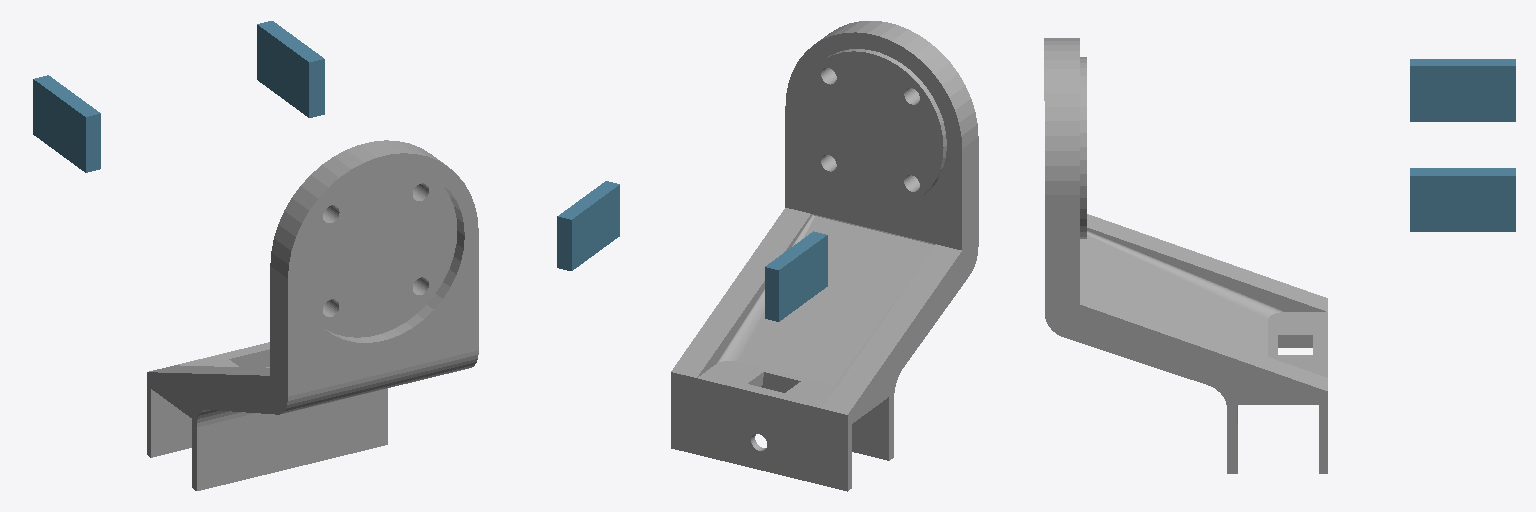
URDF robot description (ur5_robotiq_85):
<?xml version="1.0" ?>
<!-- =================================================================================== -->
<!-- |    This document was autogenerated by xacro from sisbot.xacro                   | -->
<!-- |    EDITING THIS FILE BY HAND IS NOT RECOMMENDED                                 | -->
<!-- =================================================================================== -->
<robot name="ur5_robotiq_85" xmlns:xacro="http://ros.org/wiki/xacro">
  <!--################################################
  ########              arm                    #######
  ####################################################-->

  <link name="base_link">
    <visual>
      <geometry>
        <mesh filename="../meshes/ur5/visual/base.obj"/>
      </geometry>
      <material name="LightGrey">
        <color rgba="0.7 0.7 0.7 1.0"/>
      </material>
    </visual>
    <collision>
      <geometry>
        <mesh filename="../meshes/ur5/collision/base.stl"/>
      </geometry>
    </collision>
    <inertial>
      <mass value="4.0"/>
      <origin rpy="0 0 0" xyz="0.0 0.0 0.0"/>
      <inertia ixx="0.00443333156" ixy="0.0" ixz="0.0" iyy="0.00443333156" iyz="0.0" izz="0.0072"/>
    </inertial>
  </link>

  <joint name="shoulder_pan_joint" type="revolute">
    <parent link="base_link"/>
    <child link="shoulder_link"/>
    <origin rpy="0.0 0.0 0.0" xyz="0.0 0.0 0.089159"/>
    <axis xyz="0 0 1"/>
    <limit effort="150.0" lower="-3.14159265359" upper="3.14159265359" velocity="3.15"/>
    <dynamics damping="0.0" friction="0.0"/>
  </joint>
  <link name="shoulder_link">
    <visual>
      <geometry>
        <mesh filename="../meshes/ur5/visual/shoulder.obj"/>
      </geometry>
      <material name="UR-Blue">
        <color rgba="0.376 0.576 0.674 1.0"/>
      </material>
    </visual>
    <collision>
      <geometry>
        <mesh filename="../meshes/ur5/collision/shoulder.stl"/>
      </geometry>
    </collision>
    <inertial>
      <mass value="3.7"/>
      <origin rpy="0 0 0" xyz="0.0 0.0 0.0"/>
      <inertia ixx="0.010267495893" ixy="0.0" ixz="0.0" iyy="0.010267495893" iyz="0.0" izz="0.00666"/>
    </inertial>
  </link>
  <joint name="shoulder_lift_joint" type="revolute">
    <parent link="shoulder_link"/>
    <child link="upper_arm_link"/>
    <origin rpy="0.0 1.57079632679 0.0" xyz="0.0 0.13585 0.0"/>
    <axis xyz="0 1 0"/>
    <limit effort="150.0" lower="-3.14159265359" upper="3.14159265359" velocity="3.15"/>
    <dynamics damping="0.0" friction="0.0"/>
  </joint>
  <link name="upper_arm_link">
    <visual>
      <geometry>
        <mesh filename="../meshes/ur5/visual/upperarm.obj"/>
      </geometry>
      <material name="LightGrey">
        <color rgba="0.7 0.7 0.7 1.0"/>
      </material>
    </visual>
    <collision>
      <geometry>
        <mesh filename="../meshes/ur5/collision/upperarm.stl"/>
      </geometry>
    </collision>
    <inertial>
      <mass value="8.393"/>
      <origin rpy="0 0 0" xyz="0.0 0.0 0.28"/>
      <inertia ixx="0.22689067591" ixy="0.0" ixz="0.0" iyy="0.22689067591" iyz="0.0" izz="0.0151074"/>
    </inertial>
  </link>
  <joint name="elbow_joint" type="revolute">
    <parent link="upper_arm_link"/>
    <child link="forearm_link"/>
    <origin rpy="0.0 0.0 0.0" xyz="0.0 -0.1197 0.425"/>
    <axis xyz="0 1 0"/>
    <limit effort="150.0" lower="-3.14159265359" upper="3.14159265359" velocity="3.15"/>
    <dynamics damping="0.0" friction="0.0"/>
  </joint>
  <link name="forearm_link">
    <visual>
      <geometry>
        <mesh filename="../meshes/ur5/visual/forearm.obj"/>
      </geometry>
      <material name="LightGrey">
        <color rgba="0.7 0.7 0.7 1.0"/>
      </material>
    </visual>
    <collision>
      <geometry>
        <mesh filename="../meshes/ur5/collision/forearm.stl"/>
      </geometry>
    </collision>
    <inertial>
      <mass value="2.275"/>
      <origin rpy="0 0 0" xyz="0.0 0.0 0.25"/>
      <inertia ixx="0.049443313556" ixy="0.0" ixz="0.0" iyy="0.049443313556" iyz="0.0" izz="0.004095"/>
    </inertial>
  </link>
  <joint name="wrist_1_joint" type="revolute">
    <parent link="forearm_link"/>
    <child link="wrist_1_link"/>
    <origin rpy="0.0 1.57079632679 0.0" xyz="0.0 0.0 0.39225"/>
    <axis xyz="0 1 0"/>
    <limit effort="28.0" lower="-3.14159265359" upper="3.14159265359" velocity="3.2"/>
    <dynamics damping="0.0" friction="0.0"/>
  </joint>
  <link name="wrist_1_link">
    <visual>
      <geometry>
        <mesh filename="../meshes/ur5/visual/wrist1.obj"/>
      </geometry>
      <material name="UR-Blue">
        <color rgba="0.376 0.576 0.674 1.0"/>
      </material>
    </visual>
    <collision>
      <geometry>
        <mesh filename="../meshes/ur5/collision/wrist1.stl"/>
      </geometry>
    </collision>
    <inertial>
      <mass value="1.219"/>
      <origin rpy="0 0 0" xyz="0.0 0.0 0.0"/>
      <inertia ixx="0.111172755531" ixy="0.0" ixz="0.0" iyy="0.111172755531" iyz="0.0" izz="0.21942"/>
    </inertial>
  </link>
  <joint name="wrist_2_joint" type="revolute">
    <parent link="wrist_1_link"/>
    <child link="wrist_2_link"/>
    <origin rpy="0.0 0.0 0.0" xyz="0.0 0.093 0.0"/>
    <axis xyz="0 0 1"/>
    <limit effort="28.0" lower="-3.14159265359" upper="3.14159265359" velocity="3.2"/>
    <dynamics damping="0.0" friction="0.0"/>
  </joint>
  <link name="wrist_2_link">
    <visual>
      <geometry>
        <mesh filename="../meshes/ur5/visual/wrist2.obj"/>
      </geometry>
      <material name="DarkGray">
        <color rgba="0.5 0.5 0.5 1.0"/>
      </material>
    </visual>
    <collision>
      <geometry>
        <mesh filename="../meshes/ur5/collision/wrist2.stl"/>
      </geometry>
    </collision>
    <inertial>
      <mass value="1.219"/>
      <origin rpy="0 0 0" xyz="0.0 0.0 0.0"/>
      <inertia ixx="0.111172755531" ixy="0.0" ixz="0.0" iyy="0.111172755531" iyz="0.0" izz="0.21942"/>
    </inertial>
  </link>
  <joint name="wrist_3_joint" type="revolute">
    <parent link="wrist_2_link"/>
    <child link="wrist_3_link"/>
    <origin rpy="0.0 0.0 0.0" xyz="0.0 0.0 0.09465"/>
    <axis xyz="0 1 0"/>
    <limit effort="28.0" lower="-3.14159265359" upper="3.14159265359" velocity="3.2"/>
    <dynamics damping="0.0" friction="0.0"/>
  </joint>
  <link name="wrist_3_link">
    <visual>
      <geometry>
        <mesh filename="../meshes/ur5/visual/wrist3.obj"/>
      </geometry>
      <material name="LightGrey">
        <color rgba="0.7 0.7 0.7 1.0"/>
      </material>
    </visual>
    <collision>
      <geometry>
        <mesh filename="../meshes/ur5/collision/wrist3.stl"/>
      </geometry>
    </collision>
    <inertial>
      <mass value="0.1879"/>
      <origin rpy="0 0 0" xyz="0.0 0.0 0.0"/>
      <inertia ixx="0.0171364731454" ixy="0.0" ixz="0.0" iyy="0.0171364731454" iyz="0.0" izz="0.033822"/>
    </inertial>
  </link>
  <joint name="ee_fixed_joint" type="fixed">
    <parent link="wrist_3_link"/>
    <child link="ee_link"/>
    <origin rpy="0.0 0.0 1.57079632679" xyz="0.0 0.0823 0.0"/>
  </joint>
  <link name="ee_link">
    <collision>
      <geometry>
        <box size="0.01 0.01 0.01"/>
      </geometry>
      <origin rpy="0 0 0" xyz="-0.01 0 0"/>
    </collision>
  </link>

  <!--################################################
  ########             camera mount              #####
  ####################################################-->

  <joint name='camera_joint' type='fixed'>
    <parent link="wrist_3_link"/>
    <child link="camera_mount"/>
    <origin rpy="1.57 0.0 0.0" xyz="-0.0375 0.1763 -0.0375"/>
    <!-- <origin rpy="1.57 0.0 0.0" xyz="-0.0475 0.1763 -0.0475"/> -->
    <axis xyz="1 0 0"/>
    <!-- <limit effort="10.0" lower="-0.00" upper="0.04" velocity="100"/> -->
    <!-- <dynamics damping="0.0" friction="0.0"/> -->
  </joint>
  <link name="camera_mount">
    <visual>
      <!-- <origin rpy="0 0 0" xyz="-0.01 -0.005 -0.01"/> -->
      <origin rpy="0 0 0" xyz="0.0 0.0 0.0"/>
      <geometry>
        <mesh filename="../meshes/ur5/visual/LERF_camera_mount.obj" scale="0.00105 0.00105 0.00105"/>
      </geometry>
            <material name="LightGrey">
        <color rgba="0.7 0.7 0.7 1.0"/>
      </material>
    </visual>
    <collision>
      <!-- <origin rpy="0 0 0" xyz="-0.01 -0.005 -0.01"/> -->
      <origin rpy="0 0 0" xyz="0.0 0.0 0.0"/>
      <geometry>
          <mesh filename="../meshes/ur5/collision/LERF_camera_mount.stl" scale="0.00105 0.00105 0.00105"/>
      </geometry>
    </collision>
  </link>

  <!--################################################
  ########              gripper                  #####
  ####################################################-->

  <link name="robotiq_arg2f_base_link">
    <inertial>
      <origin rpy="0 0 0" xyz="8.625E-08 -4.6583E-06 0.03145"/>
      <mass value="0.22652"/>
      <inertia ixx="0.00020005" ixy="-4.2442E-10" ixz="-2.9069E-10" iyy="0.00017832" iyz="-3.4402E-08" izz="0.00013478"/>
    </inertial>
    <visual>
      <origin rpy="0 0 0" xyz="0 0 0"/>
      <geometry>
        <mesh filename="../meshes/robotiq_85/visual/robotiq_arg2f_85_base_link.dae" scale="0.001 0.001 0.001"/>
      </geometry>
      <material name="LightGrey">
        <color rgba="0.7 0.7 0.7 1.0"/>
      </material>
    </visual>
    <collision>
      <origin rpy="0 0 0" xyz="0 0 0"/>
      <geometry>
        <mesh filename="../meshes/robotiq_85/collision/robotiq_arg2f_base_link.stl"/>
      </geometry>
    </collision>
  </link>
  <joint name="finger_joint" type="revolute">
    <origin rpy="0 0 3.14159265359" xyz="0 -0.0306011 0.054904"/>
    <parent link="robotiq_arg2f_base_link"/>
    <child link="left_outer_knuckle"/>
    <axis xyz="1 0 0"/>
    <limit effort="1000" lower="0" upper="0.8" velocity="2.0"/>
  </joint>
  <link name="left_outer_knuckle">
    <inertial>
        <origin xyz="-0.000200000000003065 0.0199435877845359 0.0292245259211331" rpy="0 0 0" />
        <mass value="0.00853198276973456" />
        <inertia ixx="2.89328108496468E-06" ixy="-1.57935047237397E-19" ixz="-1.93980378593255E-19" iyy="1.86719750325683E-06" iyz="-1.21858577871576E-06" izz="1.21905238907251E-06" />
        </inertial>
    <visual>
      <origin rpy="0 0 0" xyz="0 0 0"/>
      <geometry>
        <mesh filename="../meshes/robotiq_85/visual/robotiq_arg2f_85_outer_knuckle.dae" scale="0.001 0.001 0.001"/>
      </geometry>
      <material name="">
        <color rgba="1 1 0 1"/>
      </material>
    </visual>
    <collision>
      <origin rpy="0 0 0" xyz="0 0 0"/>
      <geometry>
        <mesh filename="../meshes/robotiq_85/collision/robotiq_arg2f_85_outer_knuckle.dae" scale="0.001 0.001 0.001"/>
      </geometry>
    </collision>
  </link>
  <joint name="left_outer_finger_joint" type="fixed">
    <origin rpy="0 0 0" xyz="0 0.0315 -0.0041"/>
    <parent link="left_outer_knuckle"/>
    <child link="left_outer_finger"/>
    <axis xyz="1 0 0"/>
  </joint>
  <link name="left_outer_finger">
    <inertial>
        <origin xyz="0.00030115855001899 0.0373907951953854 -0.0208027427000385" rpy="0 0 0" />
        <mass value="0.022614240507152" />
        <inertia ixx="1.52518312458174E-05" ixy="9.76583423954399E-10" ixz="-5.43838577022588E-10" iyy="6.17694243867776E-06" iyz="6.78636130740228E-06" izz="1.16494917907219E-05" />
        </inertial>
    <visual>
      <origin rpy="0 0 0" xyz="0 0 0"/>
      <geometry>
        <mesh filename="../meshes/robotiq_85/visual/robotiq_arg2f_85_outer_finger.dae" scale="0.001 0.001 0.001"/>
      </geometry>
      <material name="LightGrey">
        <color rgba="0 1 1 1.0"/>
      </material>
    </visual>
    <collision>
      <origin rpy="0 0 0" xyz="0 0 0"/>
      <geometry>
        <mesh filename="../meshes/robotiq_85/collision/robotiq_arg2f_85_outer_finger.dae" scale="0.001 0.001 0.001"/>
      </geometry>
    </collision>
  </link>
  <joint name="left_inner_finger_joint" type="revolute">
    <origin rpy="0 0 0" xyz="0 0.0061 0.0471"/>
    <parent link="left_outer_finger"/>
    <child link="left_inner_finger"/>
    <axis xyz="1 0 0"/>
    <limit effort="1000" lower="-0.8757" upper="0" velocity="2.0"/>
    <mimic joint="finger_joint" multiplier="-1" offset="0"/>
  </joint>
  <link name="left_inner_finger">
    <inertial>
        <origin xyz="0.000299999999999317 0.0160078233491243 -0.0136945669206257" rpy="0 0 0" />
        <mass value="0.0104003125914103" />
        <inertia ixx="2.71909453810972E-06" ixy="1.35402465472579E-21" ixz="-7.1817349065269E-22" iyy="7.69100314106116E-07" iyz="6.74715432769696E-07" izz="2.30315190420171E-06" />
        </inertial>
    <visual>
      <origin rpy="0 0 0" xyz="0 0 0"/>
      <geometry>
        <mesh filename="../meshes/robotiq_85/visual/robotiq_arg2f_85_inner_finger.dae" scale="0.001 0.001 0.001"/>
      </geometry>
      <material name="LightGrey">
        <color rgba="1 0 1 1.0"/>
      </material>
    </visual>
    <collision>
      <origin rpy="0 0 0" xyz="0 0 0"/>
      <geometry>
        <mesh filename="../meshes/robotiq_85/collision/robotiq_arg2f_85_inner_finger.dae" scale="0.001 0.001 0.001"/>
      </geometry>
    </collision>
  </link>
  <joint name="left_inner_finger_pad_joint" type="fixed">
    <origin rpy="0 0 0" xyz="0 -0.0220203446692936 0.03242"/>
    <parent link="left_inner_finger"/>
    <child link="left_inner_finger_pad"/>
    <axis xyz="0 0 1"/>
  </joint>
  <link name="left_inner_finger_pad">
    <inertial>
      <mass value="1."/>
      <inertia ixx="1E-10" ixy="1E-10" ixz="1E-10" iyy="1E-10" iyz="1E-10" izz="1E-10"/>
    </inertial>
    <visual>
      <origin rpy="0 0 0" xyz="0 0 0"/>
      <geometry>
        <box size="0.022 0.00635 0.0375"/>
      </geometry>
      <material name="UR-Blue">
        <color rgba="0.376 0.576 0.674 1.0"/>
      </material>
    </visual>
    <collision>
      <origin rpy="0 0 0" xyz="0 0 0"/>
      <geometry>
        <box size="0.022 0.00635 0.0375"/>
      </geometry>
      <material name="">
        <color rgba="0.9 0.0 0.0 1"/>
      </material>
    </collision>
  </link>
  <joint name="left_inner_knuckle_joint" type="revolute">
    <!-- <origin xyz="0 ${reflect * -0.0127} 0.06142" rpy="${pi / 2 + .725} 0 ${(reflect - 1) * pi / 2}" /> -->
    <origin rpy="0 0 3.14159265359" xyz="0 -0.0127 0.06142"/>
    <parent link="robotiq_arg2f_base_link"/>
    <child link="left_inner_knuckle"/>
    <axis xyz="1 0 0"/>
    <limit effort="1000" lower="0" upper="0.8757" velocity="2.0"/>
    <mimic joint="finger_joint" multiplier="1" offset="0"/>
  </joint>
  <link name="left_inner_knuckle">
    <inertial>
        <origin xyz="0.000123011831763771 0.0507850843201817 0.00103968640075166" rpy="0 0 0" />
       <mass value="0.0271177346495152" />
        <inertia ixx="2.61910379223783E-05" ixy="-2.43616858946494E-07" ixz="-6.37789906117123E-09" iyy="2.8270243746167E-06" iyz="-5.37200748039765E-07" izz="2.83695868220296E-05" />
        </inertial>
    <visual>
      <origin rpy="0 0 0" xyz="0 0 0"/>
      <geometry>
        <mesh filename="../meshes/robotiq_85/visual/robotiq_arg2f_85_inner_knuckle.dae" scale="0.001 0.001 0.001"/>
      </geometry>
      <material name="LightGrey">
        <color rgba="0 0 1 1.0"/>
      </material>
    </visual>
    <collision>
      <origin rpy="0 0 0" xyz="0 0 0"/>
      <geometry>
        <mesh filename="../meshes/robotiq_85/collision/robotiq_arg2f_85_inner_knuckle.dae" scale="0.001 0.001 0.001"/>
      </geometry>
    </collision>
  </link>
  <joint name="right_outer_knuckle_joint" type="revolute">
    <origin rpy="0 0 0" xyz="0 0.0306011 0.054904"/>
    <parent link="robotiq_arg2f_base_link"/>
    <child link="right_outer_knuckle"/>
    <axis xyz="1 0 0"/>
    <limit effort="1000" lower="0" upper="0.81" velocity="2.0"/>
    <mimic joint="finger_joint" multiplier="1" offset="0"/>
  </joint>
  <link name="right_outer_knuckle">
    <inertial>
        <origin xyz="-0.000200000000003065 0.0199435877845359 0.0292245259211331" rpy="0 0 0" />
        <mass value="0.00853198276973456" />
        <inertia ixx="2.89328108496468E-06" ixy="-1.57935047237397E-19" ixz="-1.93980378593255E-19" iyy="1.86719750325683E-06" iyz="-1.21858577871576E-06" izz="1.21905238907251E-06" />
        </inertial>
    <visual>
      <origin rpy="0 0 0" xyz="0 0 0"/>
      <geometry>
        <mesh filename="../meshes/robotiq_85/visual/robotiq_arg2f_85_outer_knuckle.dae" scale="0.001 0.001 0.001"/>
      </geometry>
      <material name="">
        <color rgba="0.792156862745098 0.819607843137255 0.933333333333333 1"/>
      </material>
    </visual>
    <collision>
      <origin rpy="0 0 0" xyz="0 0 0"/>
      <geometry>
        <mesh filename="../meshes/robotiq_85/collision/robotiq_arg2f_85_outer_knuckle.dae" scale="0.001 0.001 0.001"/>
      </geometry>
    </collision>
  </link>
  <joint name="right_outer_finger_joint" type="fixed">
    <origin rpy="0 0 0" xyz="0 0.0315 -0.0041"/>
    <parent link="right_outer_knuckle"/>
    <child link="right_outer_finger"/>
    <axis xyz="1 0 0"/>
  </joint>
  <link name="right_outer_finger">
    <inertial>
        <origin xyz="0.00030115855001899 0.0373907951953854 -0.0208027427000385" rpy="0 0 0" />
        <mass value="0.022614240507152" />
        <inertia ixx="1.52518312458174E-05" ixy="9.76583423954399E-10" ixz="-5.43838577022588E-10" iyy="6.17694243867776E-06" iyz="6.78636130740228E-06" izz="1.16494917907219E-05" />
        </inertial>
    <visual>
      <origin rpy="0 0 0" xyz="0 0 0"/>
      <geometry>
        <mesh filename="../meshes/robotiq_85/visual/robotiq_arg2f_85_outer_finger.dae" scale="0.001 0.001 0.001"/>
      </geometry>
      <material name="LightGrey">
        <color rgba="0.7 0.7 0.7 1.0"/>
      </material>
    </visual>
    <collision>
      <origin rpy="0 0 0" xyz="0 0 0"/>
      <geometry>
        <mesh filename="../meshes/robotiq_85/collision/robotiq_arg2f_85_outer_finger.dae" scale="0.001 0.001 0.001"/>
      </geometry>
    </collision>
  </link>
  <joint name="right_inner_finger_joint" type="revolute">
    <origin rpy="0 0 0" xyz="0 0.0061 0.0471"/>
    <parent link="right_outer_finger"/>
    <child link="right_inner_finger"/>
    <axis xyz="1 0 0"/>
    <limit effort="1000" lower="-0.8757" upper="0" velocity="2.0"/>
    <mimic joint="finger_joint" multiplier="-1" offset="0"/>
  </joint>
  <link name="right_inner_finger">
    <inertial>
        <origin xyz="0.000299999999999317 0.0160078233491243 -0.0136945669206257" rpy="0 0 0" />
        <mass value="0.0104003125914103" />
        <inertia ixx="2.71909453810972E-06" ixy="1.35402465472579E-21" ixz="-7.1817349065269E-22" iyy="7.69100314106116E-07" iyz="6.74715432769696E-07" izz="2.30315190420171E-06" />
        </inertial>
    <visual>
      <origin rpy="0 0 0" xyz="0 0 0"/>
      <geometry>
        <mesh filename="../meshes/robotiq_85/visual/robotiq_arg2f_85_inner_finger.dae" scale="0.001 0.001 0.001"/>
      </geometry>
      <material name="">
        <color rgba="0.1 0.1 0.1 1"/>
      </material>
    </visual>
    <collision>
      <origin rpy="0 0 0" xyz="0 0 0"/>
      <geometry>
        <mesh filename="../meshes/robotiq_85/collision/robotiq_arg2f_85_inner_finger.dae" scale="0.001 0.001 0.001"/>
      </geometry>
    </collision>
  </link>
  <joint name="right_inner_finger_pad_joint" type="fixed">
    <origin rpy="0 0 0" xyz="0 -0.0220203446692936 0.03242"/>
    <parent link="right_inner_finger"/>
    <child link="right_inner_finger_pad"/>
    <axis xyz="0 0 1"/>
  </joint>
  <link name="right_inner_finger_pad">
    <inertial>
      <mass value="1"/>
      <inertia ixx="1E-10" ixy="1E-10" ixz="1E-10" iyy="1E-10" iyz="1E-10" izz="1E-10"/>
    </inertial>
    <visual>
      <origin rpy="0 0 0" xyz="0 0 0"/>
      <geometry>
        <box size="0.022 0.00635 0.0375"/>
      </geometry>
      <material name="UR-Blue">
        <color rgba="0.376 0.576 0.674 1.0"/>
      </material>
    </visual>
    <collision>
      <origin rpy="0 0 0" xyz="0 0 0"/>
      <geometry>
        <box size="0.022 0.00635 0.0375"/>
      </geometry>
      <material name="LightGrey">
        <color rgba="0.7 0.7 0.7 1.0"/>
      </material>
    </collision>
  </link>
  <joint name="right_inner_knuckle_joint" type="revolute">
    <!-- <origin xyz="0 ${reflect * -0.0127} 0.06142" rpy="${pi / 2 + .725} 0 ${(reflect - 1) * pi / 2}" /> -->
    <origin rpy="0 0 0.0" xyz="0 0.0127 0.06142"/>
    <parent link="robotiq_arg2f_base_link"/>
    <child link="right_inner_knuckle"/>
    <axis xyz="1 0 0"/>
    <limit effort="1000" lower="0" upper="0.8757" velocity="2.0"/>
    <mimic joint="finger_joint" multiplier="1" offset="0"/>
  </joint>
  <link name="right_inner_knuckle">
    <inertial>
        <origin xyz="0.000123011831763771 0.0507850843201817 0.00103968640075166" rpy="0 0 0" />
       <mass value="0.0271177346495152" />
        <inertia ixx="2.61910379223783E-05" ixy="-2.43616858946494E-07" ixz="-6.37789906117123E-09" iyy="2.8270243746167E-06" iyz="-5.37200748039765E-07" izz="2.83695868220296E-05" />
        </inertial>
    <visual>
      <origin rpy="0 0 0" xyz="0 0 0"/>
      <geometry>
        <mesh filename="../meshes/robotiq_85/visual/robotiq_arg2f_85_inner_knuckle.dae" scale="0.001 0.001 0.001"/>
      </geometry>
      <material name="LightGrey">
        <color rgba="0.7 0.7 0.7 1.0"/>
      </material>
    </visual>
    <collision>
      <origin rpy="0 0 0" xyz="0 0 0"/>
      <geometry>
        <mesh filename="../meshes/robotiq_85/collision/robotiq_arg2f_85_inner_knuckle.dae" scale="0.001 0.001 0.001"/>
      </geometry>
    </collision>
  </link>

<!--################################################
  ########          connect model                #####
  ####################################################-->

  <link name="world"/>
  <!-- connect gripper to arm -->
  <joint name="robotiq_85_base_joint" type="fixed">
    <parent link="ee_link"/>
    <child link="robotiq_arg2f_base_link"/>
    <origin rpy="0 1.57079632679 0" xyz="0.012 0 0"/>
  </joint>

<!--  <joint name="arm_gripper_joint" type="fixed">-->
<!--    <parent link="ee_link"/>-->
<!--    <child link="robotiq_140_robotiq_arg2f_base_link"/>-->
<!--    <origin rpy="-1.57 1.57 -1.57" xyz="0.0 0.0 0.0"/>-->
<!--  </joint>-->

  <!-- connect arm to world -->
  <joint name="world_arm_joint" type="fixed">
    <parent link="world"/>
    <child link="base_link"/>
    <origin rpy="0.0 0.0 0" xyz="0 0 0"/>
  </joint>


</robot>

--- Facts derived from the render (not from the file) ---
The picture shows the robot from 3 angles, left to right: view 1: azimuth 30°, elevation 25°; view 2: azimuth 150°, elevation 25°; view 3: azimuth 270°, elevation 25°; orthographic projection.
Model ur5_robotiq_85 with 21 links and 20 joints (12 revolute, 8 fixed), rooted at world, posed every joint at zero.
Visible links, largest first — view 1: camera_mount, left_inner_finger_pad, right_inner_finger_pad; view 2: camera_mount, left_inner_finger_pad, right_inner_finger_pad; view 3: camera_mount, right_inner_finger_pad, left_inner_finger_pad.
Link boxes in pixels (x1,y1,x2,y2): camera_mount: [147, 140, 478, 490]; left_inner_finger_pad: [33, 75, 100, 172]; right_inner_finger_pad: [257, 21, 324, 117]; camera_mount: [671, 21, 978, 491]; left_inner_finger_pad: [765, 231, 827, 321]; right_inner_finger_pad: [557, 181, 619, 270]; camera_mount: [1044, 38, 1327, 473]; right_inner_finger_pad: [1410, 168, 1515, 231]; left_inner_finger_pad: [1410, 59, 1515, 121].
Bounding box of the posed robot: 0.0987 × 0.1681 × 0.1494 m (x, y, z).
1 mesh visuals loaded from 13 distinct referenced files (1 OBJ); not drawn: 16 (reference not matched to a file when rendering).